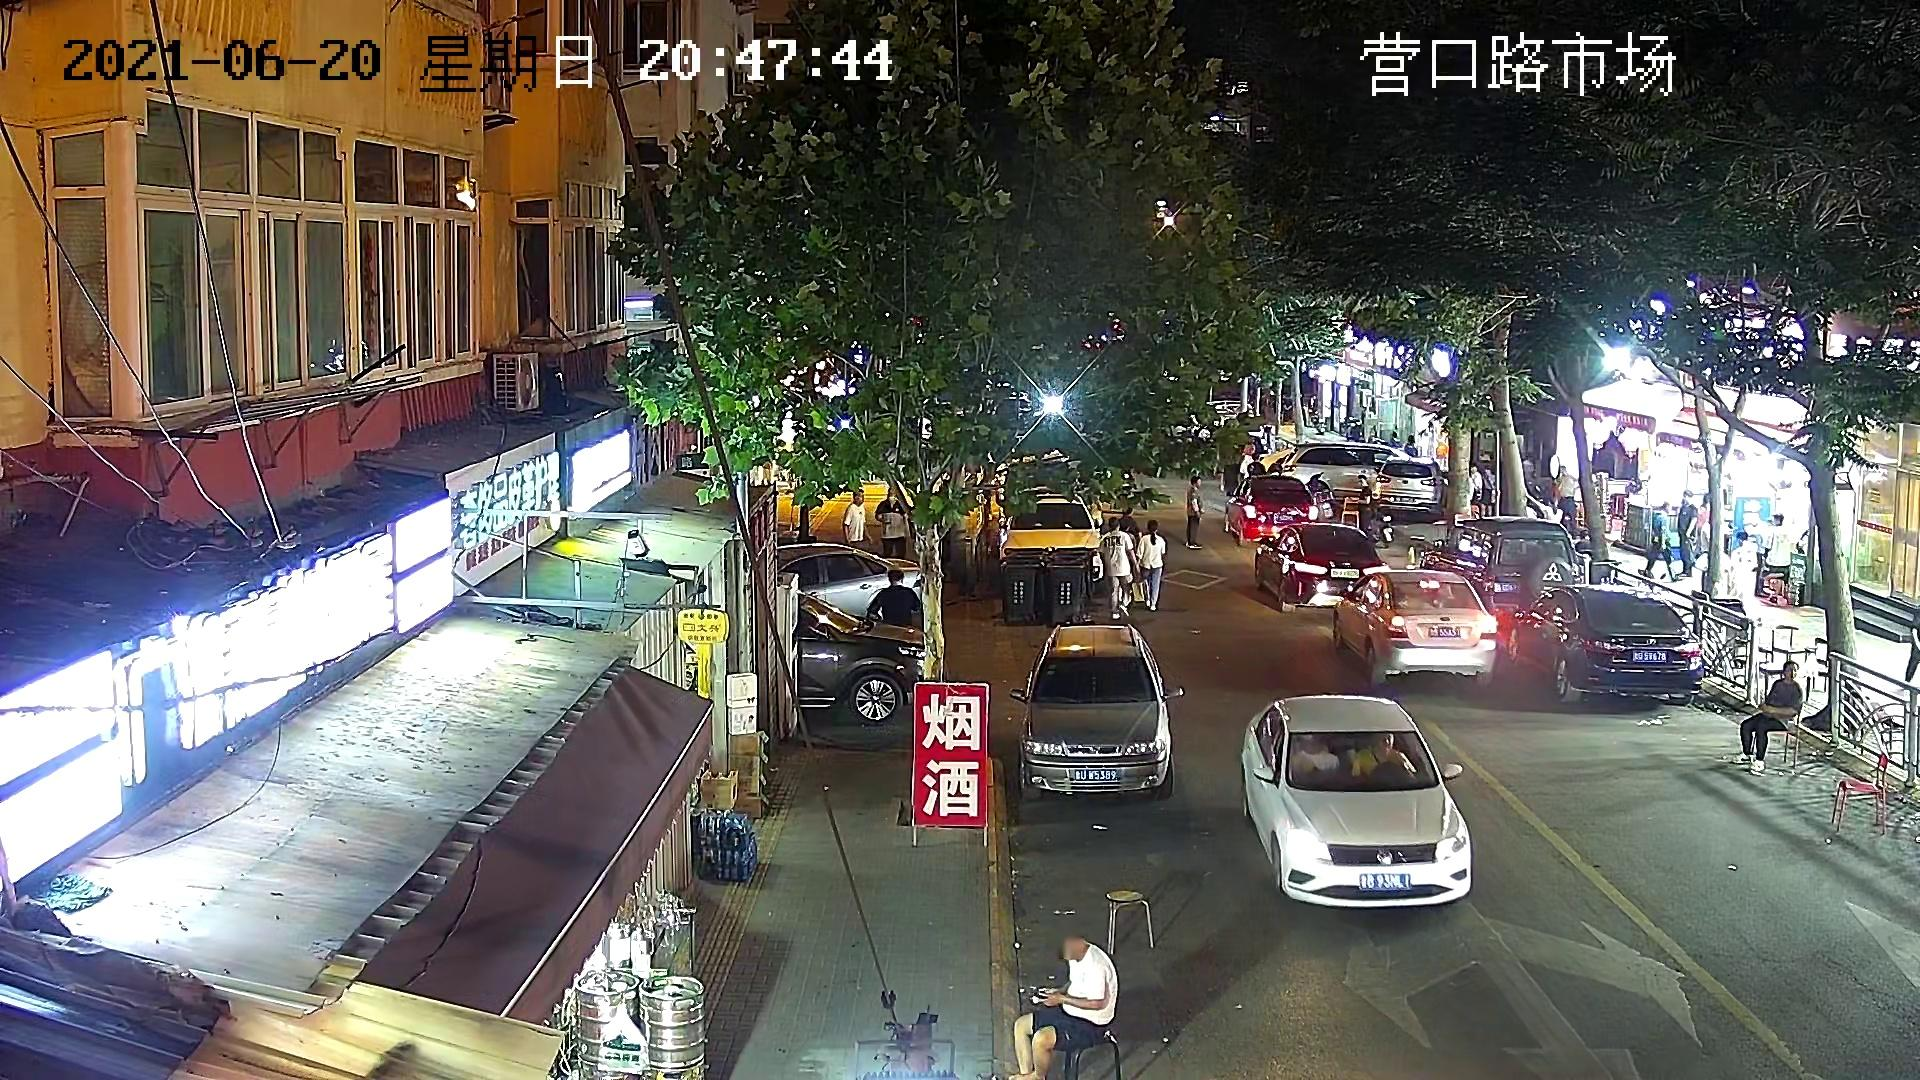chair: (1830, 753, 1888, 835), (1751, 699, 1803, 767), (1105, 889, 1156, 956), (1062, 1026, 1122, 1076)
